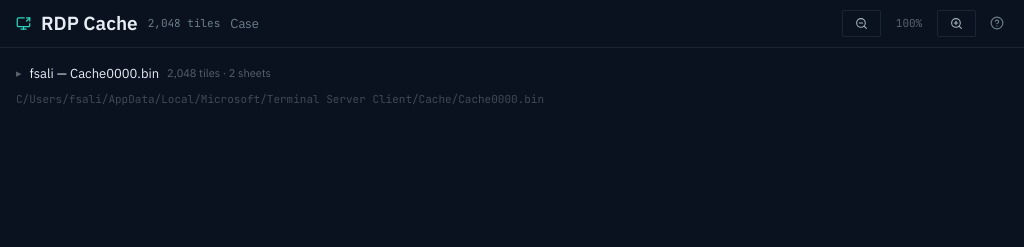
Scenario: RdpCacheViewer › says a sheet failed rather than showing a broken image
Click the text "fsali — Cache0000.bin" at (94, 74), box top-left (30, 64), bottom-right (159, 84)
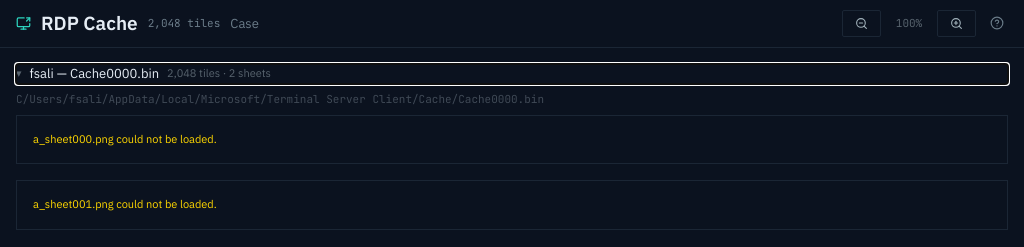
Expected: the text "a_sheet000.png could not be loaded." is shown 2 times, top-left (33, 132), bottom-right (217, 146); top-left (33, 197), bottom-right (217, 211)
